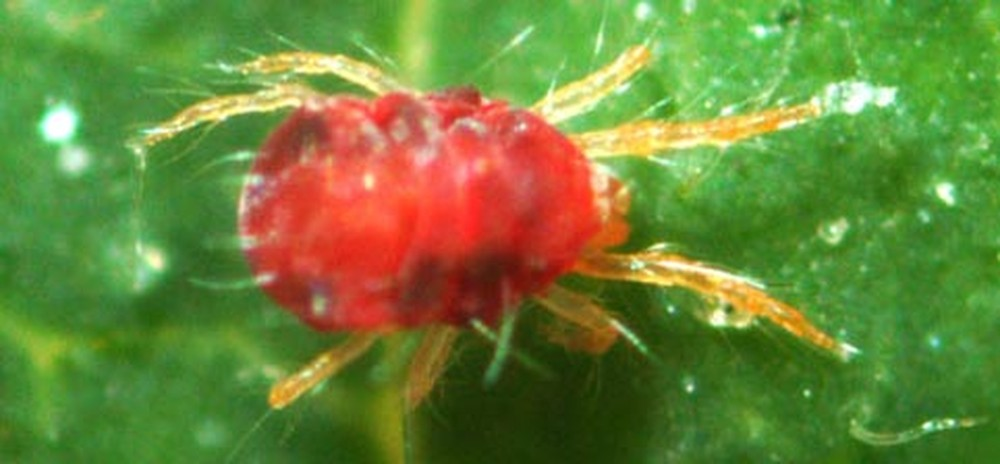Aracnido Rojo: (150, 23, 870, 433)
